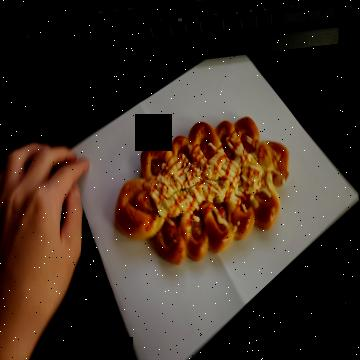pizza_bread: (112, 118, 290, 265)
